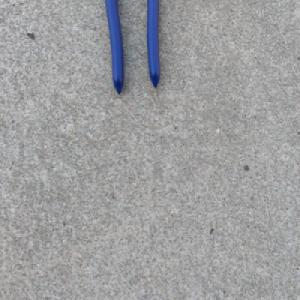Pliers: (105, 0, 163, 95)
